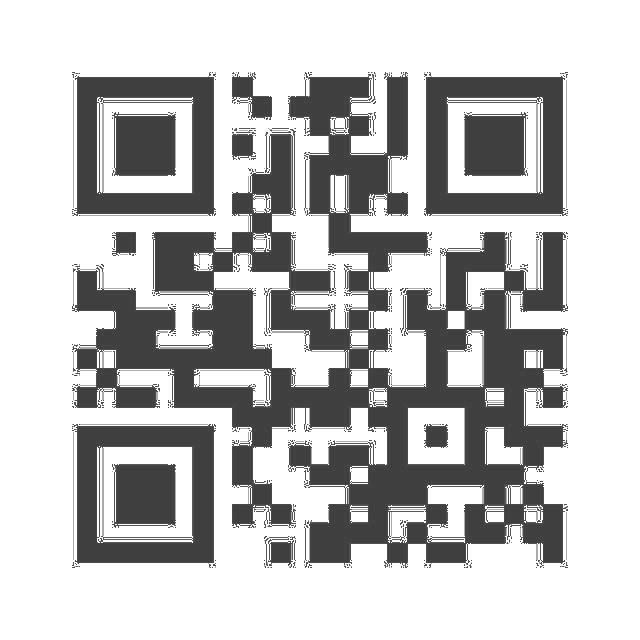qr_code: (66, 67, 572, 579)
